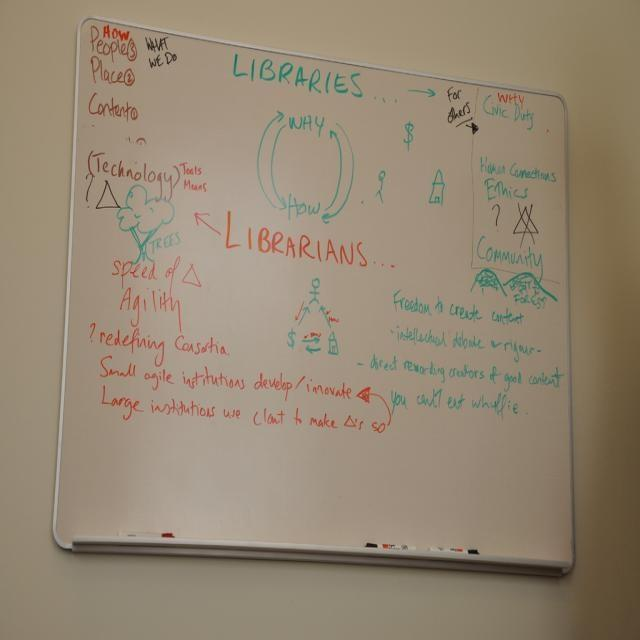Whiteboard: (49, 15, 575, 578)
